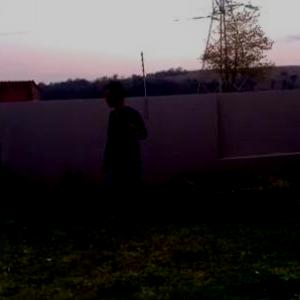takeoff-hand: (123, 112, 146, 137)
